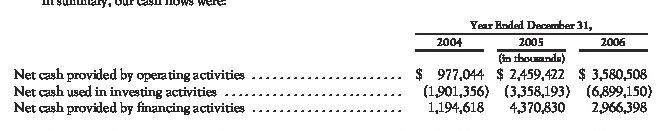table: (0, 0, 671, 131)
